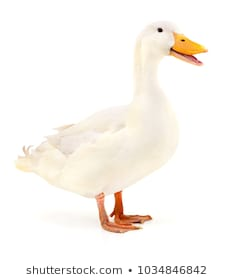duck: (6, 3, 219, 243)
